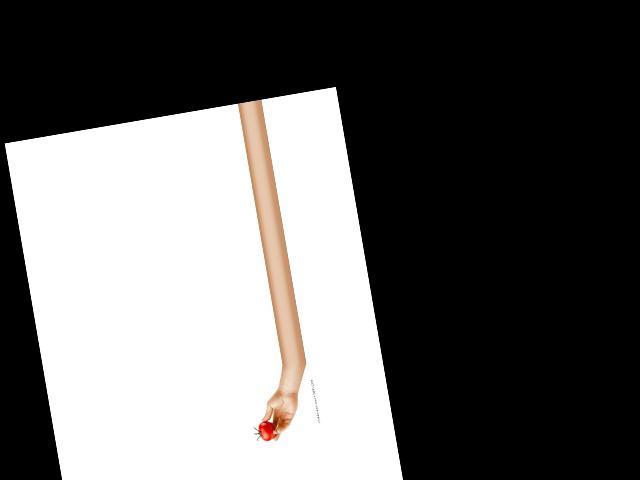tomato: (257, 419, 278, 441)
